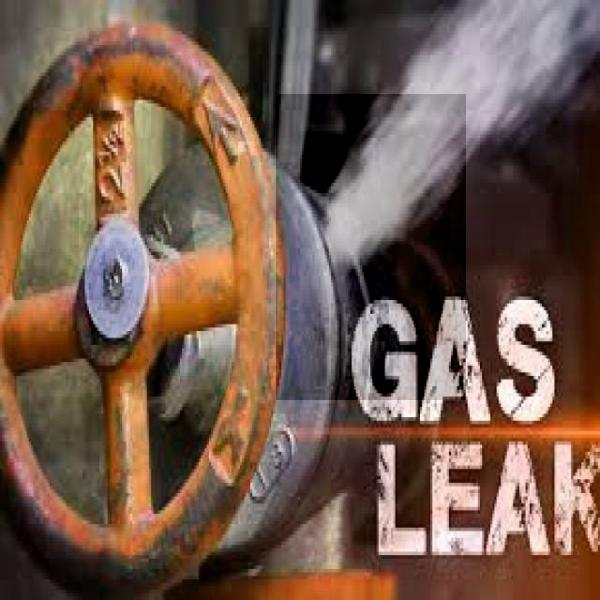gas: (276, 94, 466, 400)
